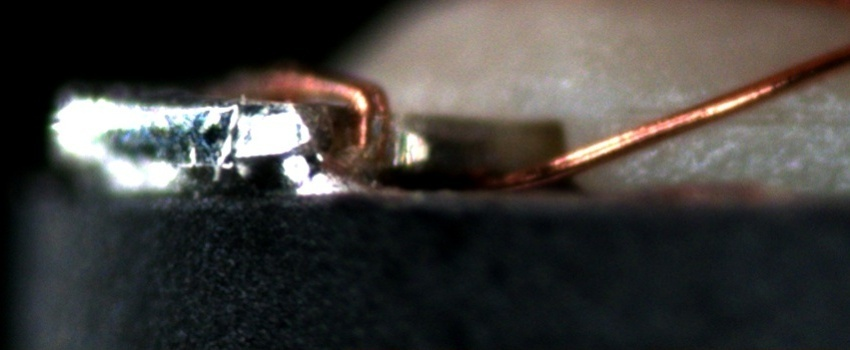DL: (622, 87, 849, 151)
TE: (264, 64, 395, 175)
